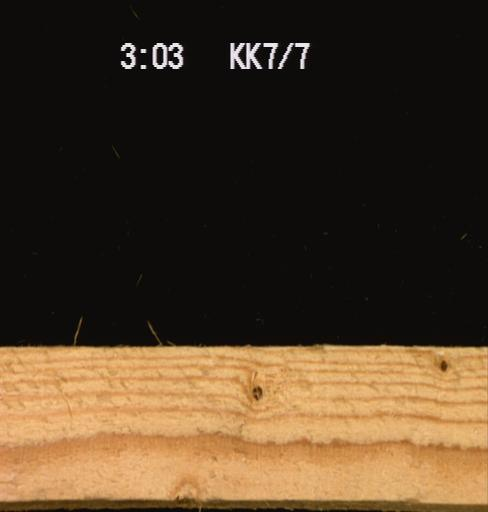edge_knot: (168, 474, 201, 507)
small_knot: (249, 384, 262, 401), (437, 358, 447, 372)
